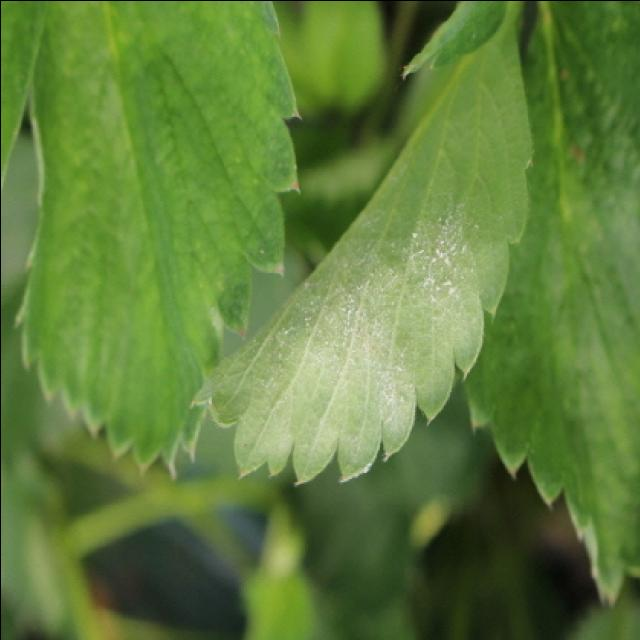Powdery Mildew Leaf: (188, 7, 535, 488)
